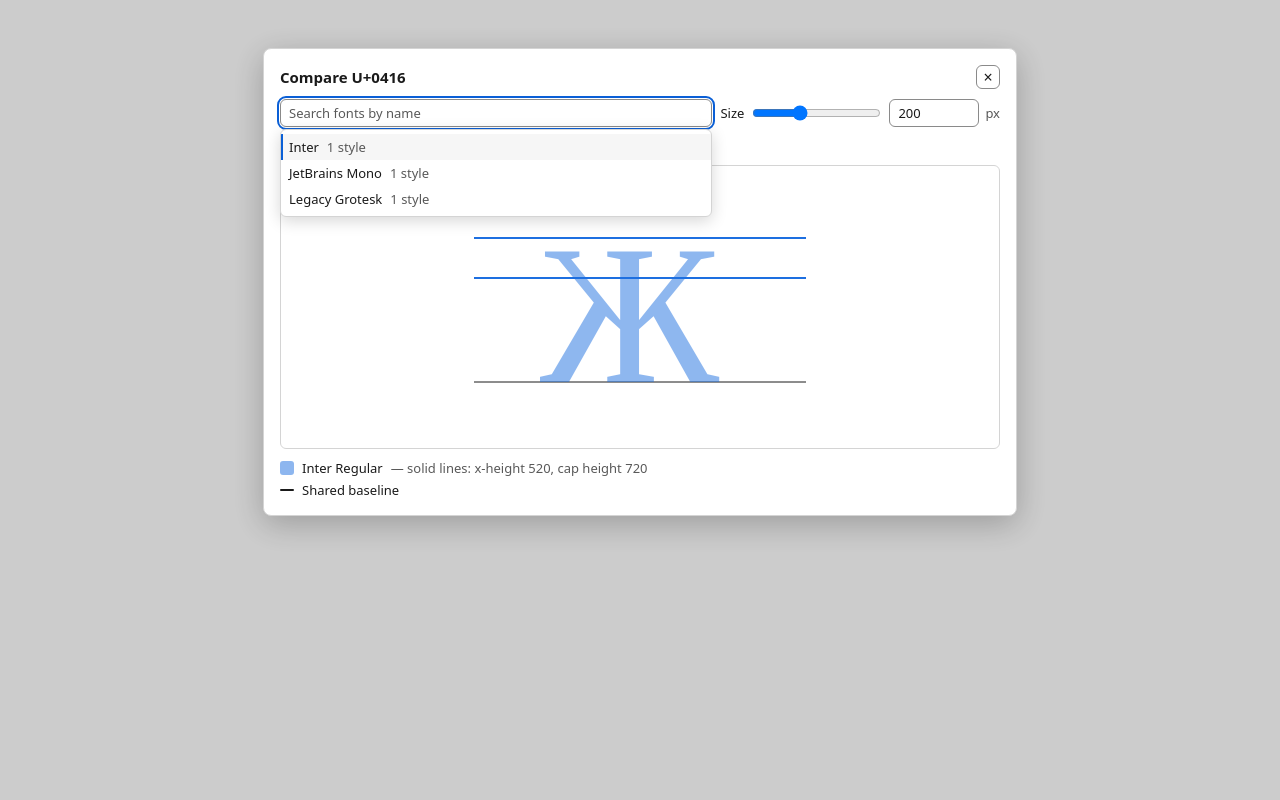
it: glyph compare overlay › says so when the second font lacks the character, and does not draw it
The width and height of the screenshot is (1280, 800).
Type "Legacy Grotesk" into the dropdown with placeholder "Search fonts by name" at [496, 113], box [280,99,712,127]
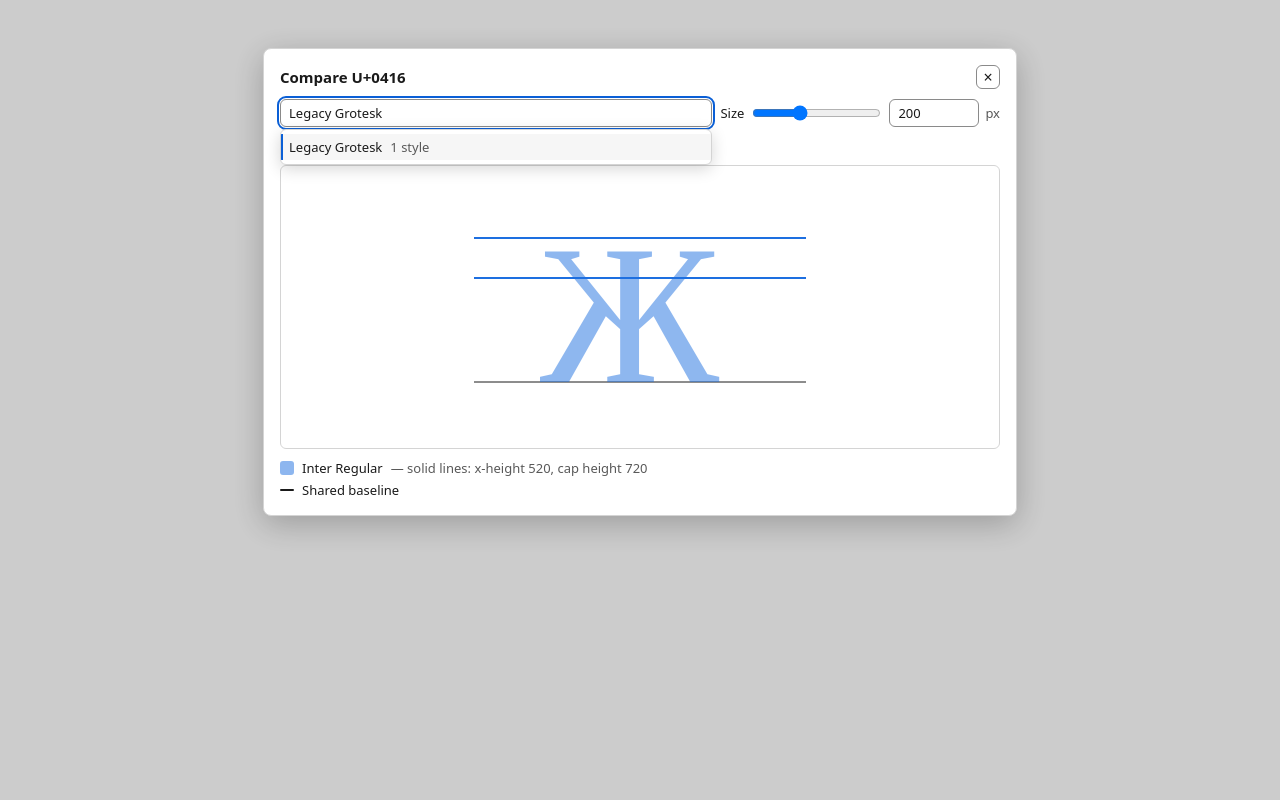
Press Enter in the dropdown named "Compare with font", box [280,99,712,127]
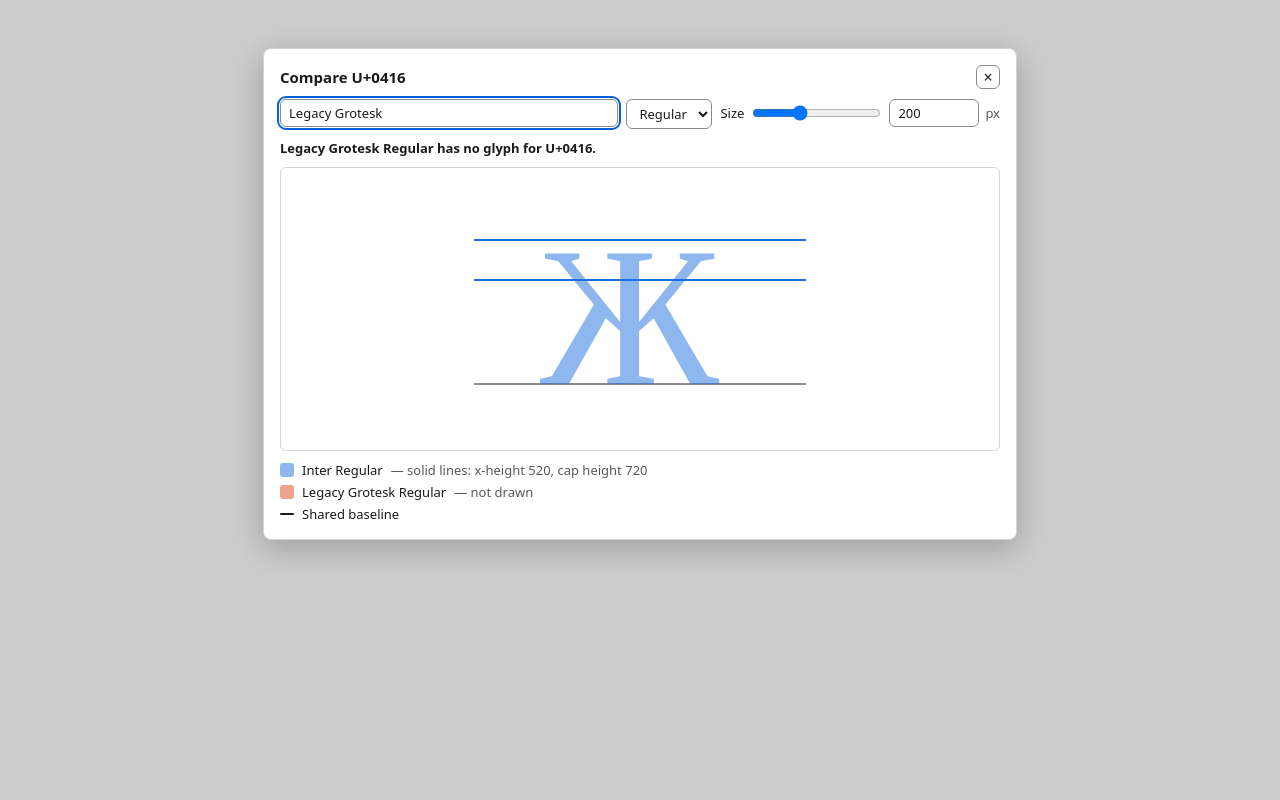
Expected: the message "Legacy Grotesk Regular has no glyph for U+0416." is shown, [280,139,596,157]
